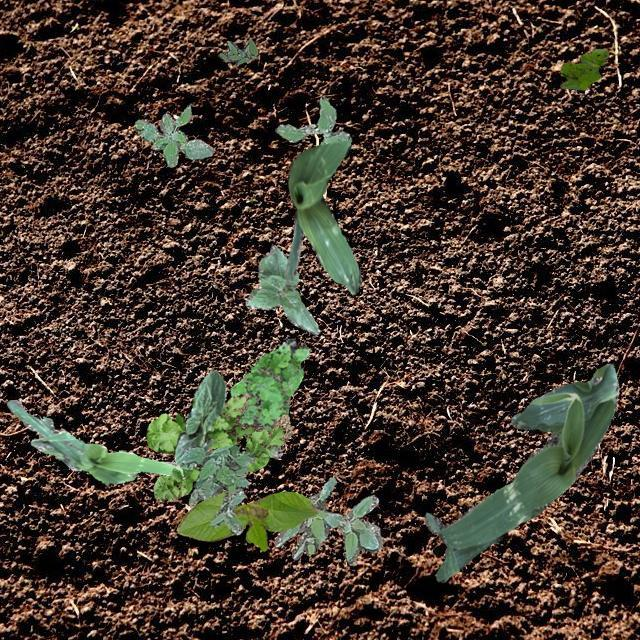crop: (424, 362, 618, 582), (6, 398, 184, 482), (284, 138, 360, 294), (175, 490, 318, 550), (246, 244, 318, 334), (173, 369, 226, 468)
weed: (144, 392, 292, 501), (274, 476, 382, 564), (230, 338, 308, 458), (178, 444, 254, 534), (134, 106, 212, 166), (274, 96, 349, 144), (560, 48, 608, 90), (218, 38, 256, 64)
